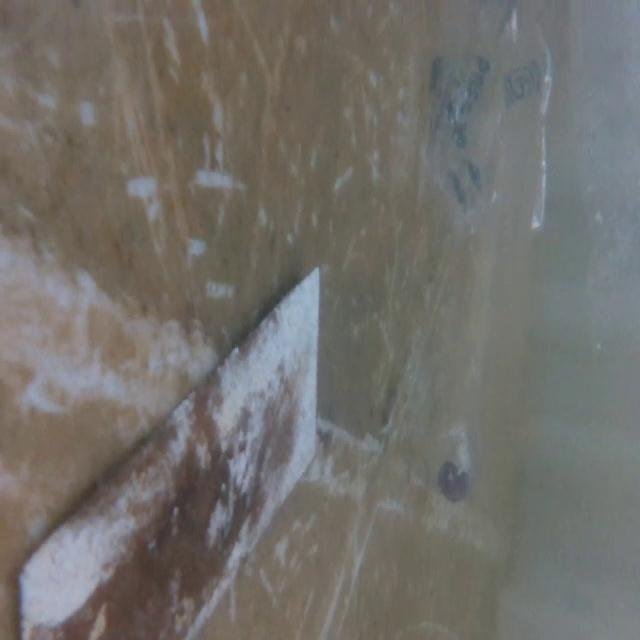metal: (0, 265, 324, 639)
plastic bags: (406, 11, 563, 241)
plastic bottle: (412, 245, 514, 514)
